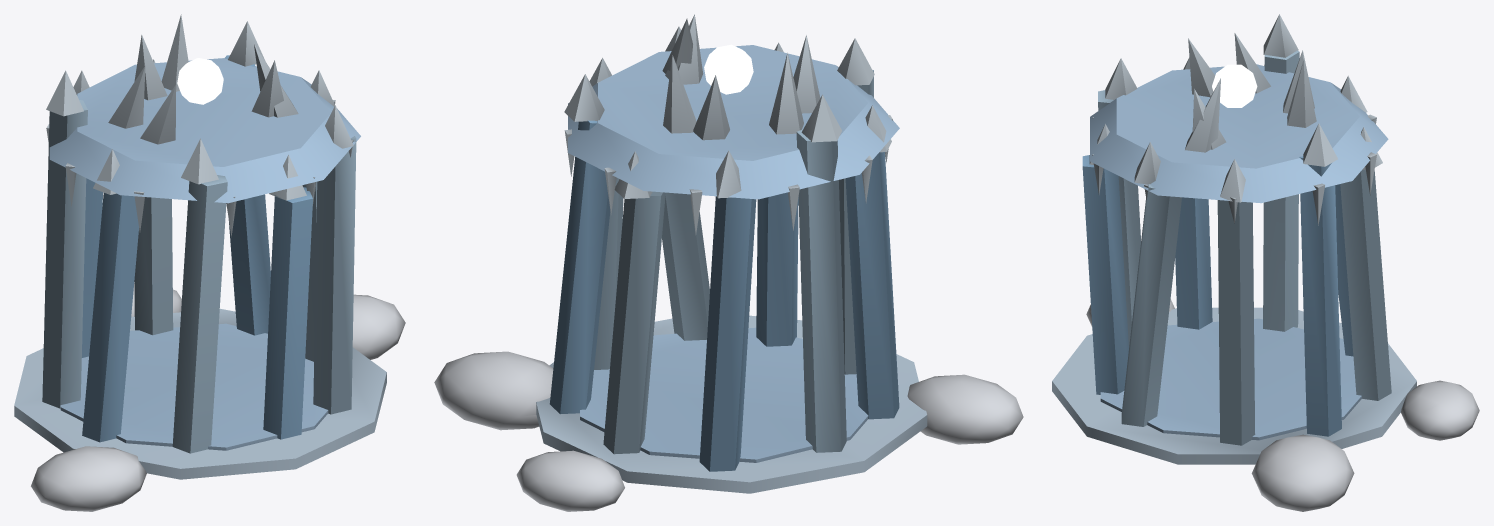
The model's file is st_icecage.glb.
The picture shows the model from 3 angles, left to right: view 1: azimuth 30°, elevation 25°; view 2: azimuth 150°, elevation 25°; view 3: azimuth 270°, elevation 25°; orthographic projection. The views are drawn at different scales.
Visible parts, largest first — view 1: body, pulse_frost_glow; view 2: body, pulse_frost_glow; view 3: body, pulse_frost_glow.
Boxes of the visible parts, x1,y1,x2,y2 form: body: [14, 14, 405, 511]; pulse_frost_glow: [177, 58, 223, 104]; body: [434, 14, 1023, 511]; pulse_frost_glow: [704, 44, 753, 94]; body: [1052, 14, 1479, 511]; pulse_frost_glow: [1212, 64, 1257, 107].
Size of the model in its own units: 4.35 by 3.56 by 3.75.
